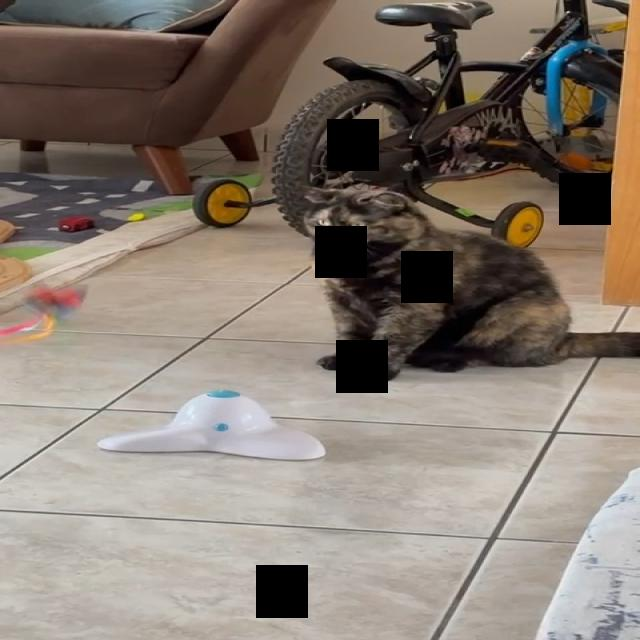authorized: (293, 183, 639, 381)
